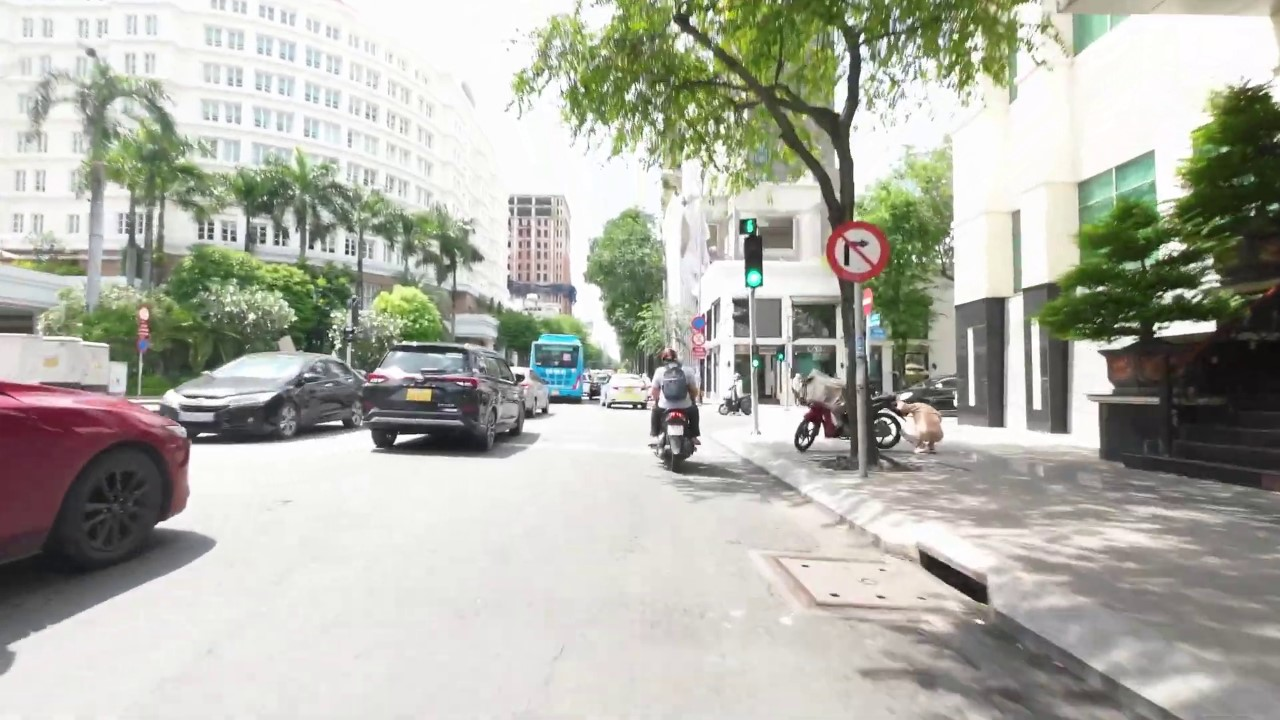cam_re_phai: (824, 218, 891, 282)
